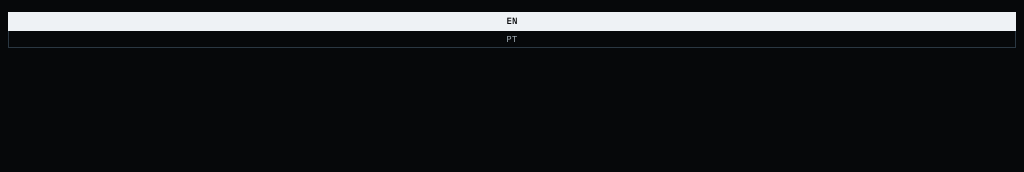
Test case: language switch › switches the language, persists it and updates <html lang>
Later steps or results of the test are not shown.
Expected: the element named "Language" is shown, x1=0 y1=12 x2=1023 y2=48
Click the button with aria-label "Português (Brasil)": (512,39) x1=8 y1=30 x2=1016 y2=48
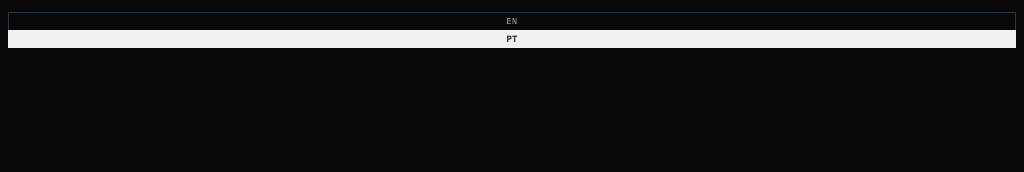
Result: the element named "Idioma" is shown at x1=0 y1=12 x2=1023 y2=48
